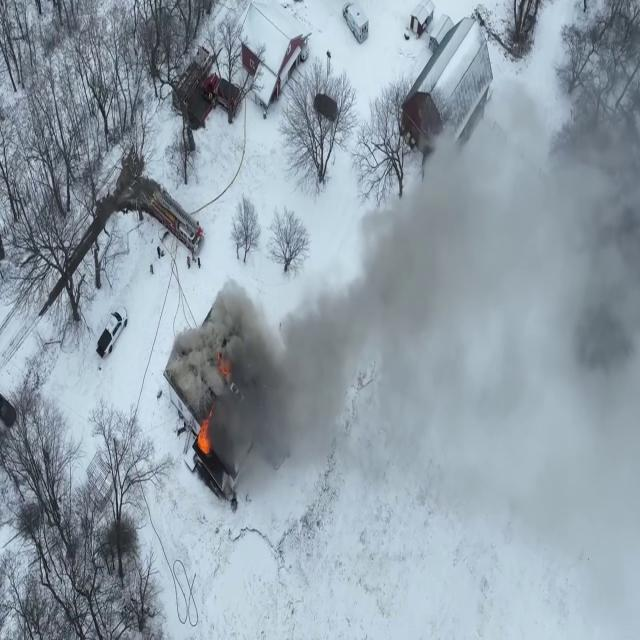Fire: (194, 412, 213, 459)
Smoke: (355, 95, 640, 482), (182, 262, 356, 488)
